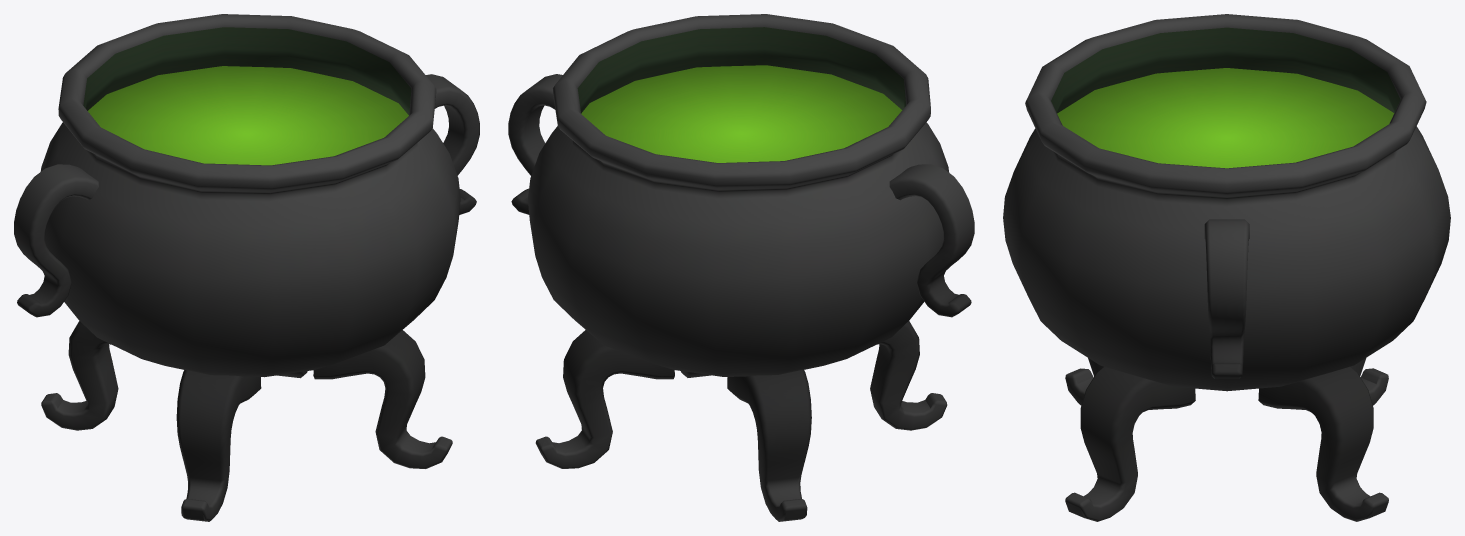
Rendered from OBJ_WitchesCauldron.fbx.
3 renders of one model, left to right at view 1: azimuth 30°, elevation 25°; view 2: azimuth 150°, elevation 25°; view 3: azimuth 270°, elevation 25°, orthographic. The views are drawn at different scales.
Parts seen in each view (by area): view 1: OBJ_WitchesCauldron; view 2: OBJ_WitchesCauldron; view 3: OBJ_WitchesCauldron.
Boxes of the visible parts, x1,y1,x2,y2 form: OBJ_WitchesCauldron: (14, 14, 479, 521); OBJ_WitchesCauldron: (508, 14, 974, 521); OBJ_WitchesCauldron: (1003, 14, 1450, 521).
Bounding box in the file's own units: 63.54 × 47.81 × 52.63.
